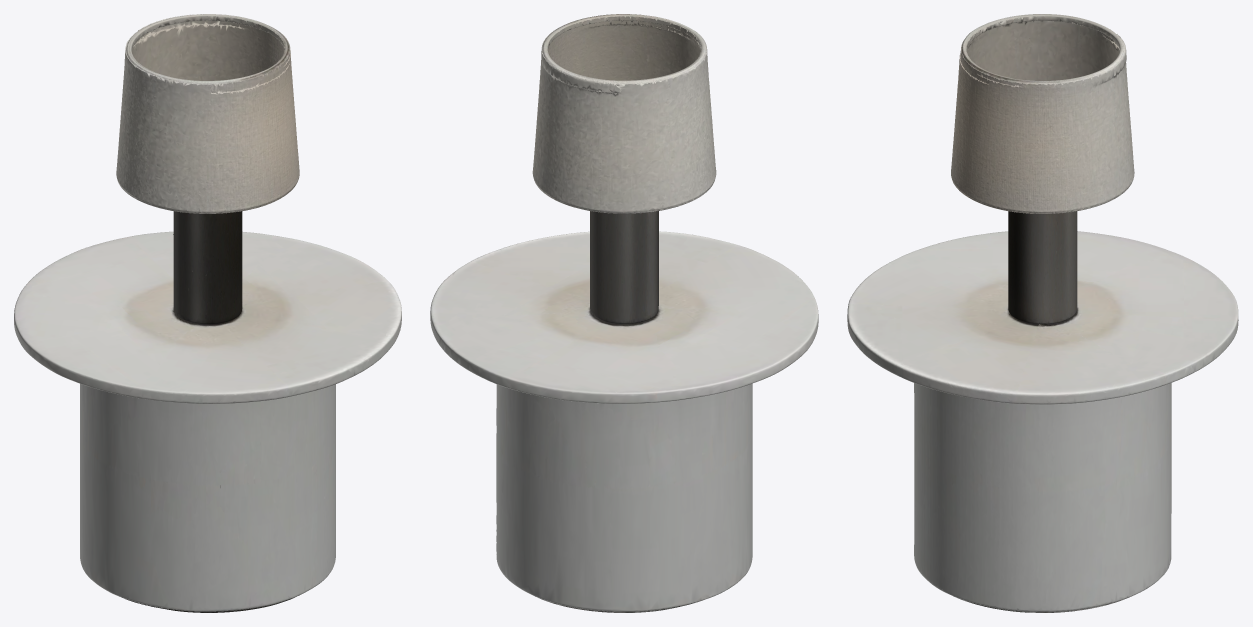
File: chevet.glb
The picture shows the model from 3 angles, left to right: view 1: azimuth 30°, elevation 25°; view 2: azimuth 150°, elevation 25°; view 3: azimuth 270°, elevation 25°; orthographic projection.
Parts seen in each view (by area): view 1: tripo_node_e66a02b0-9e5a-439d-befb-48be088f9d1b; view 2: tripo_node_e66a02b0-9e5a-439d-befb-48be088f9d1b; view 3: tripo_node_e66a02b0-9e5a-439d-befb-48be088f9d1b.
Part boxes in pixels (left/top/right/bottom): tripo_node_e66a02b0-9e5a-439d-befb-48be088f9d1b: left=14, top=14, right=401, bottom=612; tripo_node_e66a02b0-9e5a-439d-befb-48be088f9d1b: left=430, top=14, right=818, bottom=612; tripo_node_e66a02b0-9e5a-439d-befb-48be088f9d1b: left=847, top=14, right=1238, bottom=612.
Bounding box in the file's own units: 0.6752 × 0.9804 × 0.6758.
Materials: 1 (1 with a texture image).
